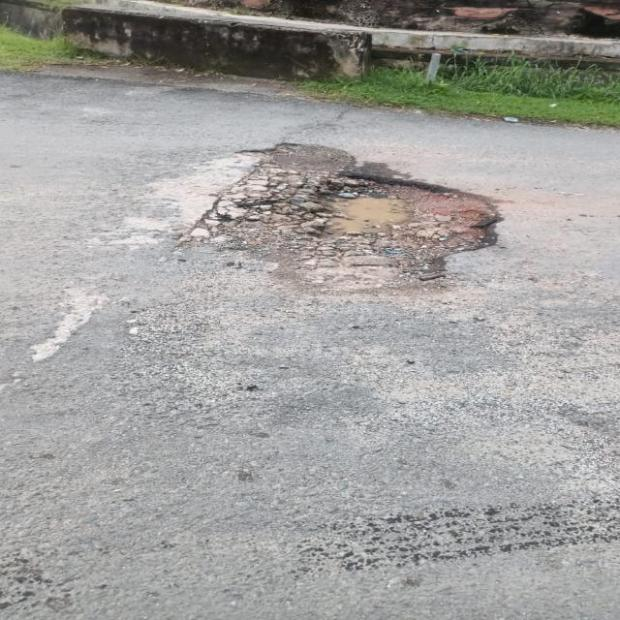lubang: (185, 143, 500, 289)
